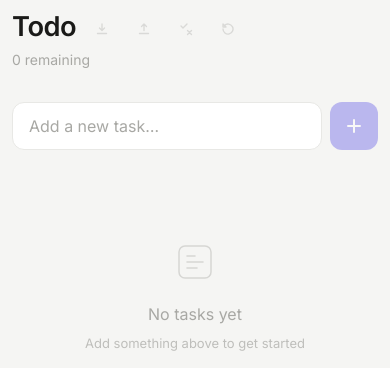
Test: TodoApp › adds a todo on form submit
Type "Walk the dog" into the field with class "add-input" at (167, 126), box [12,102,322,150]
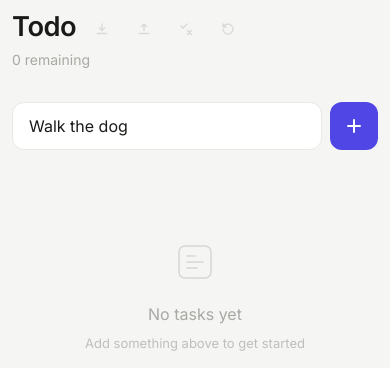
Submit the form with class "add-form", box [12,102,378,150]
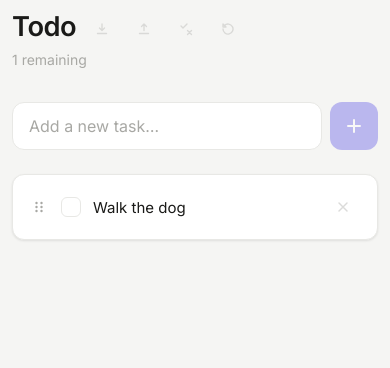
Now the element with class "todo-list" reads "Walk the dog", box [93,198,186,216]
